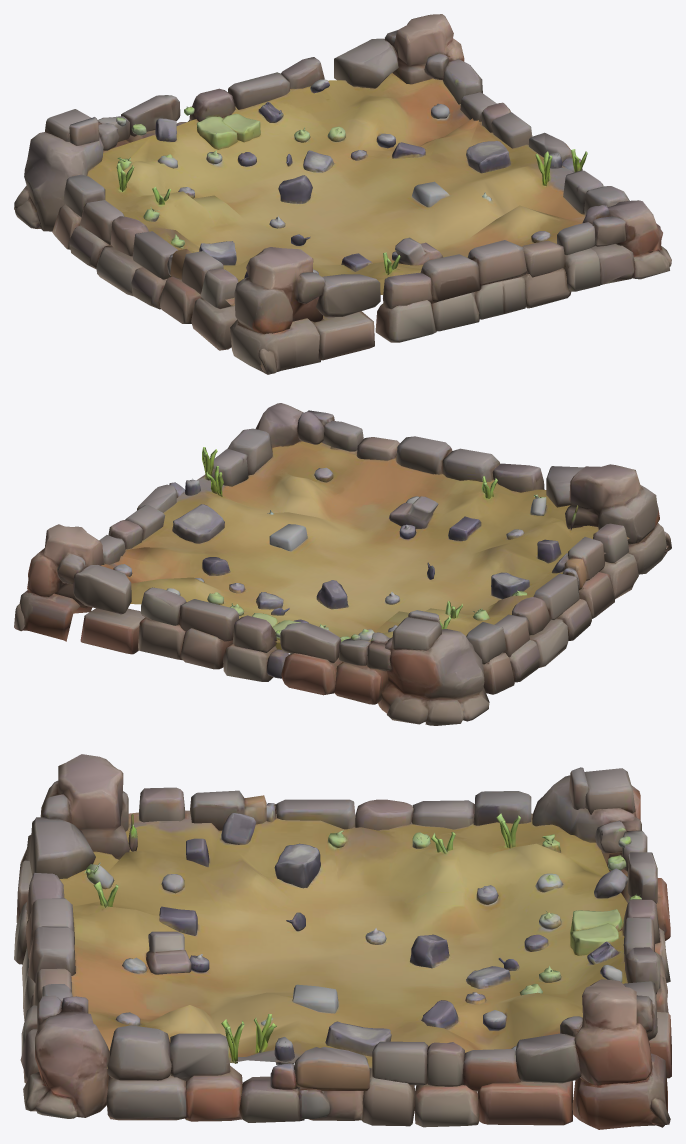
File: VAL_Capital_Environment_Plateau_Quarry.glb
3 renders of one model, top to bottom at view 1: azimuth 30°, elevation 25°; view 2: azimuth 150°, elevation 25°; view 3: azimuth 270°, elevation 25°, orthographic. The views are drawn at different scales.
Parts seen in each view (by area): view 1: tripo_node_18618d62-4b69-477a-bd1b-707795e797c0; view 2: tripo_node_18618d62-4b69-477a-bd1b-707795e797c0; view 3: tripo_node_18618d62-4b69-477a-bd1b-707795e797c0.
Part boxes in pixels (bbox=[...]): tripo_node_18618d62-4b69-477a-bd1b-707795e797c0: bbox=[14, 14, 671, 374]; tripo_node_18618d62-4b69-477a-bd1b-707795e797c0: bbox=[14, 403, 671, 725]; tripo_node_18618d62-4b69-477a-bd1b-707795e797c0: bbox=[14, 754, 671, 1129].
Size of the model in its own units: 0.998 by 0.2129 by 0.9863.
Materials: 1 (1 with a texture image).
